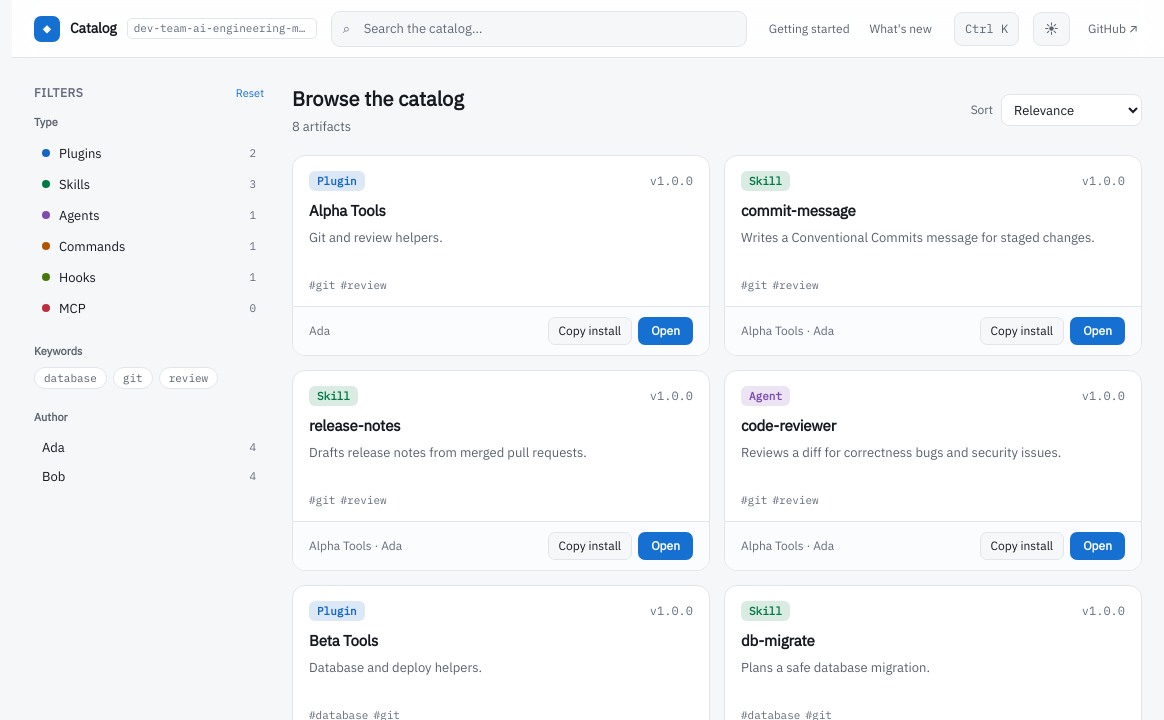
search page URL state › clicking facets and the sort writes them to the URL
Step 1. Click the button "agents 1" → (149, 215), box [34,200,264,230]
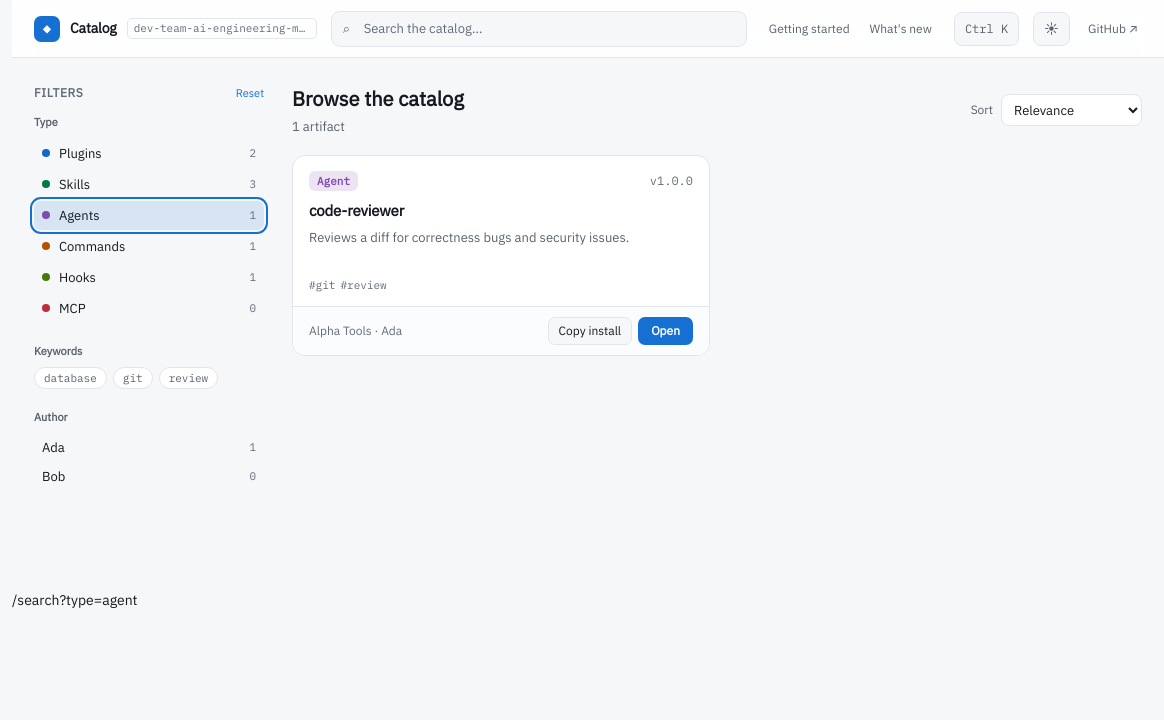
Check: the text with test id "location" reads "/search?type=agent", box [12,590,138,608]
Step 2. Click the button "skills 3" → (149, 184), box [34,170,264,198]
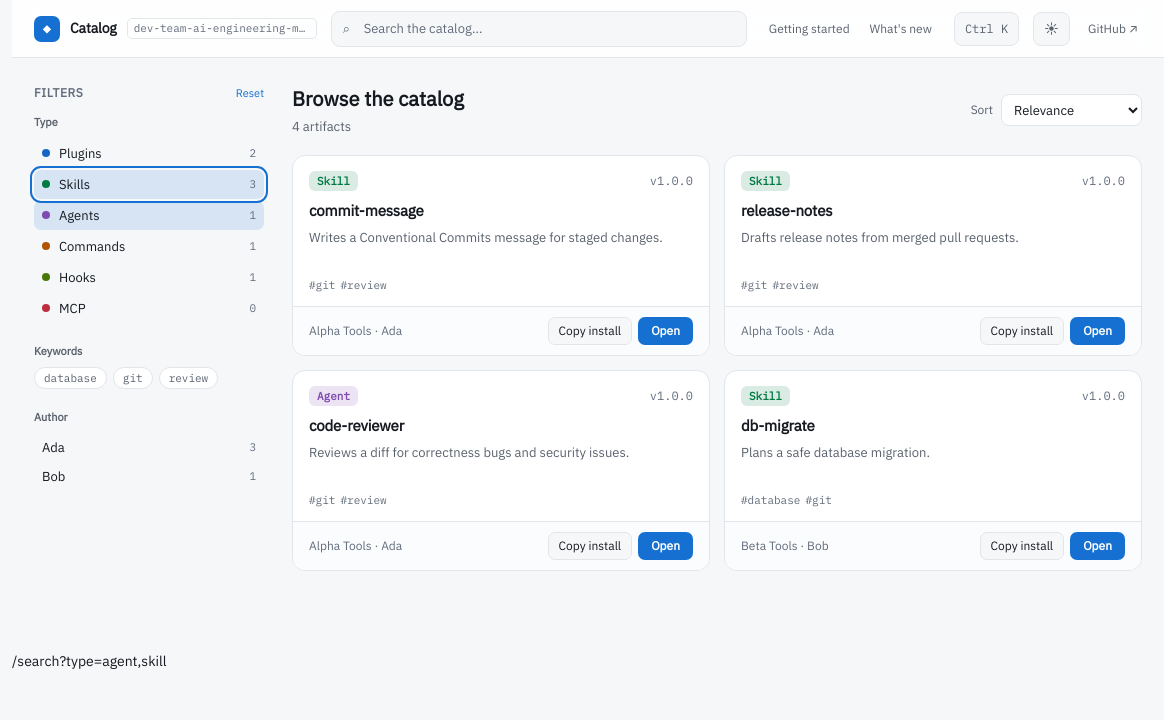
Check: the text with test id "location" reads "/search?type=agent,skill", box [12,652,167,670]
Step 3. Click the button "review" → (188, 378), box [159,367,218,389]
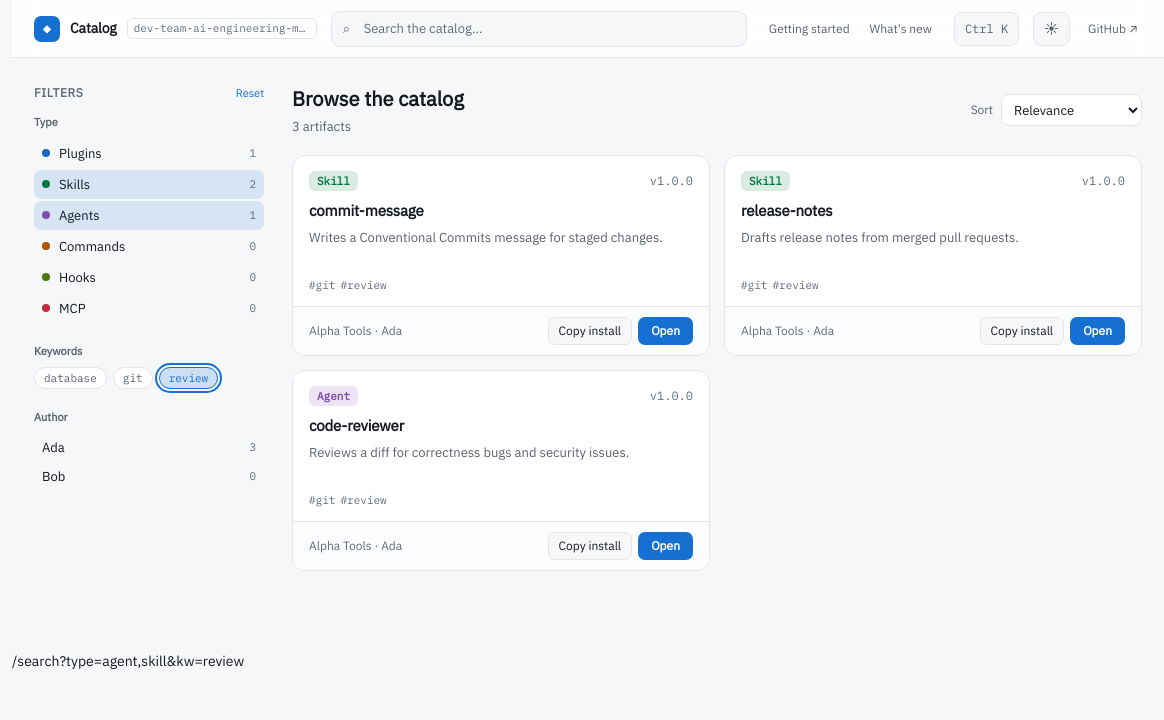
Check: the text with test id "location" reads "/search?type=agent,skill&kw=review", box [12,652,244,670]
Step 4. Select "Name" in the dropdown → (1072, 110), box [1001,94,1142,126]
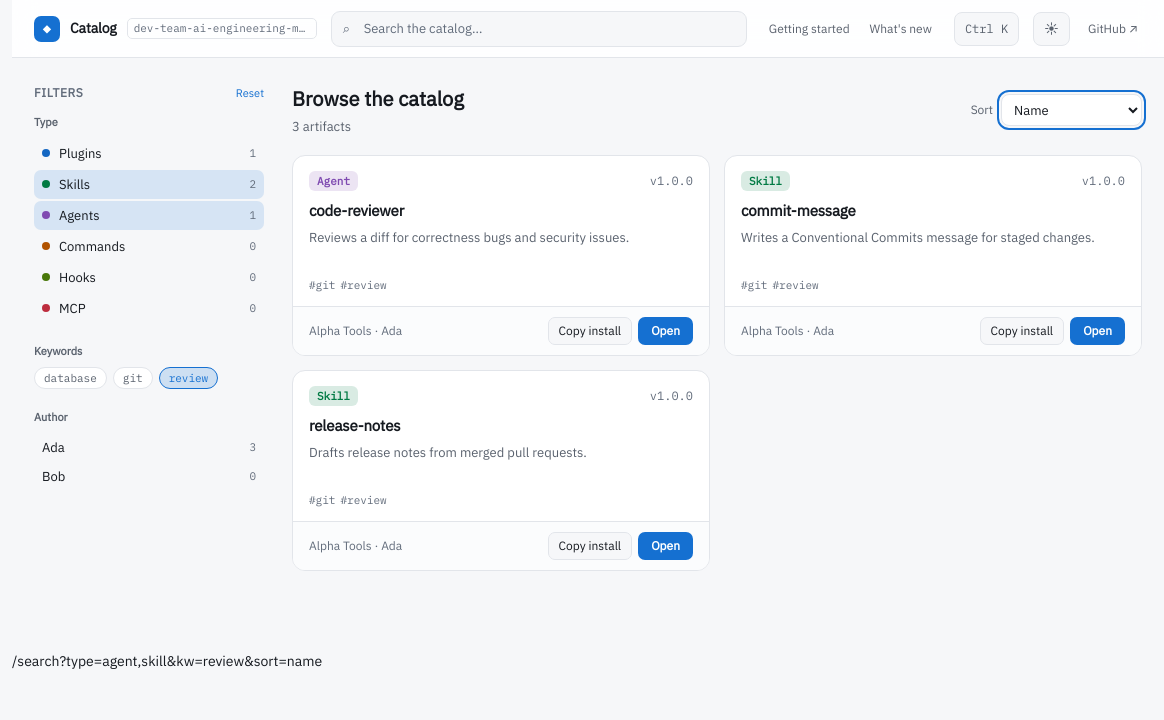
Check: the text with test id "location" reads "/search?type=agent,skill&kw=review&sort=name", box [12,652,322,670]
Step 5. Click the button "Reset" → (250, 93), box [236,84,264,102]
(page scrolled)
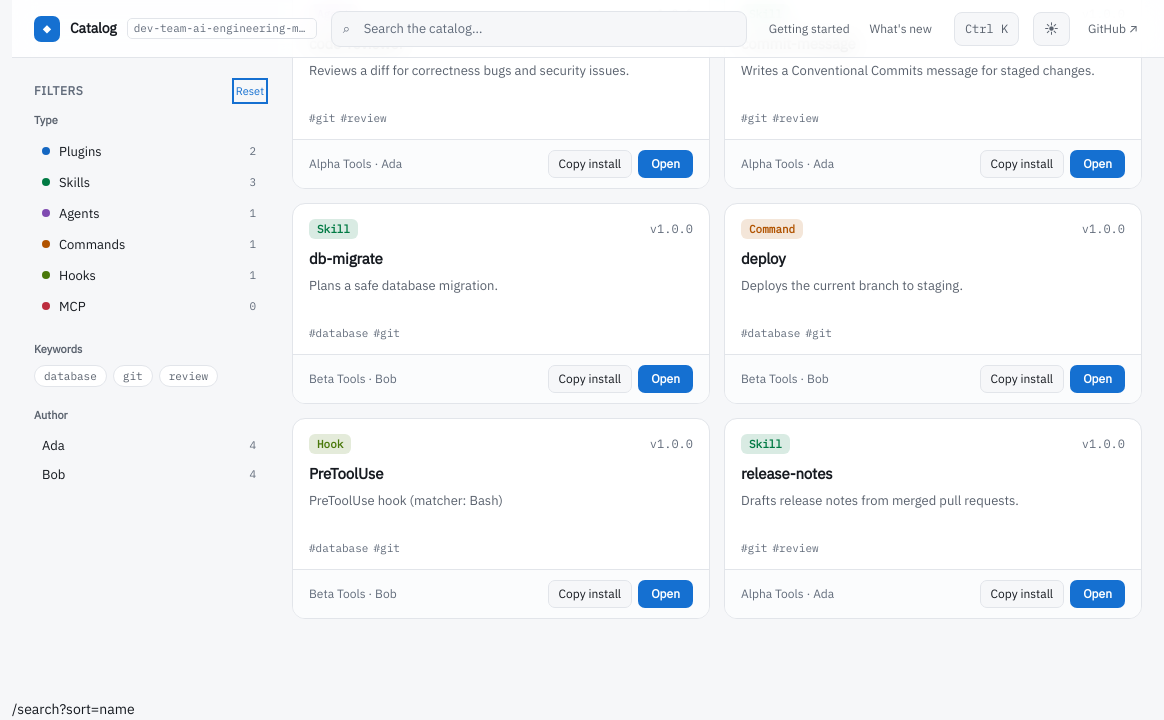
Check: the text with test id "location" reads "/search?sort=name", box [12,700,135,718]
